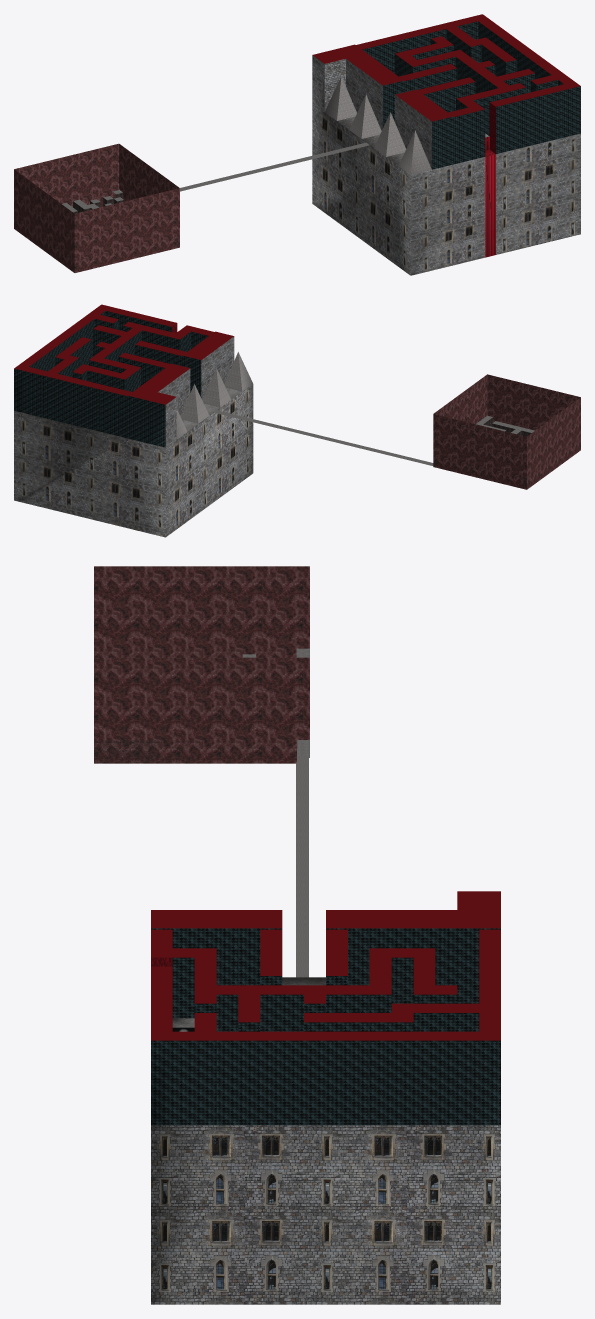
Rendered from maze.obj.
3 views of the same model, one above another, from view 1: azimuth 30°, elevation 25°; view 2: azimuth 150°, elevation 25°; view 3: azimuth 270°, elevation 25° (orthographic). The views are drawn at different scales.
Parts seen in each view (by area): view 1: Plane.003, Plane.004, Plane.005; view 2: Plane.003, Plane.004, Plane.005; view 3: Plane.003, Plane.004, Plane.005.
Part boxes in pixels (x1=…): Plane.003: x1=312, y1=14, x2=580, y2=275; Plane.004: x1=14, y1=143, x2=179, y2=272; Plane.005: x1=180, y1=142, x2=369, y2=191; Plane.003: x1=14, y1=304, x2=253, y2=537; Plane.004: x1=433, y1=374, x2=580, y2=489; Plane.005: x1=214, y1=410, x2=433, y2=465; Plane.003: x1=151, y1=891, x2=500, y2=1304; Plane.004: x1=94, y1=566, x2=309, y2=763; Plane.005: x1=296, y1=755, x2=308, y2=977.
Size of the model in its own units: 82.54 by 24.12 by 31.29.
Materials: 12 (12 with a texture image).
